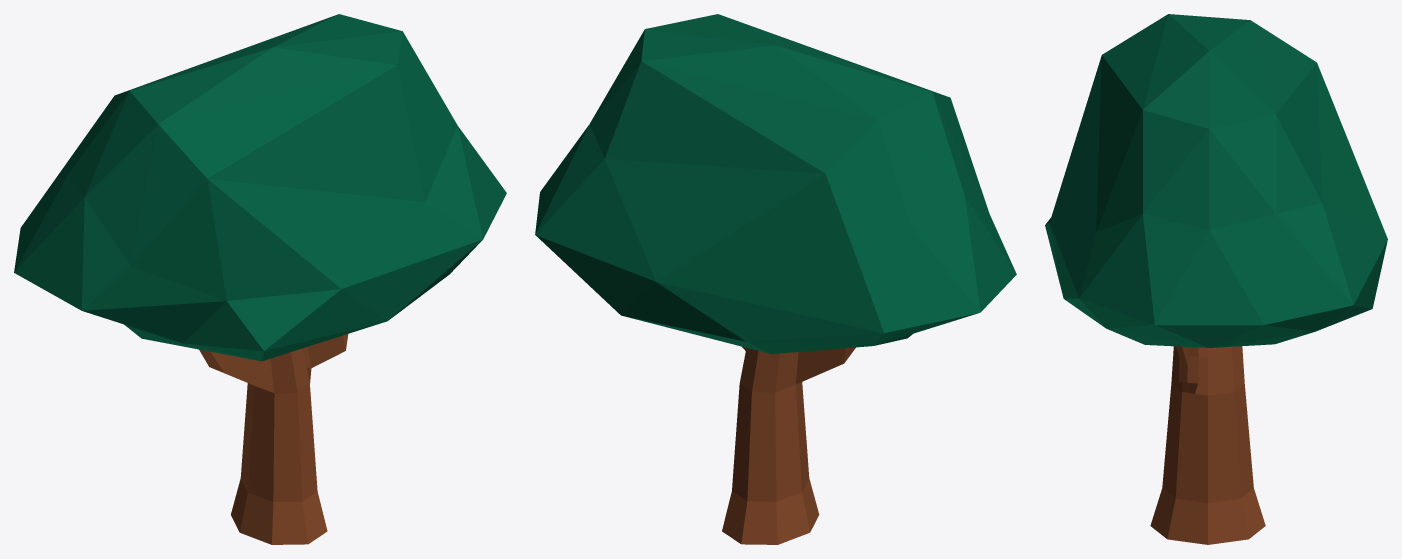
File: tree_03.glb
3 renders of one model, left to right at view 1: azimuth 30°, elevation 25°; view 2: azimuth 150°, elevation 25°; view 3: azimuth 270°, elevation 25°, orthographic.
Parts seen in each view (by area): view 1: Leaf_3, Trunk_3; view 2: Leaf_3, Trunk_3; view 3: Leaf_3, Trunk_3.
Part boxes in pixels (x1,y1,x2,y2): Leaf_3: (14,14,506,361); Trunk_3: (199,334,348,544); Leaf_3: (535,14,1016,353); Trunk_3: (722,346,855,544); Leaf_3: (1045,14,1387,347); Trunk_3: (1150,346,1265,544).
Bounding box in the file's own units: 4.98 × 5.18 × 3.41.
1 material, 1 textured.
